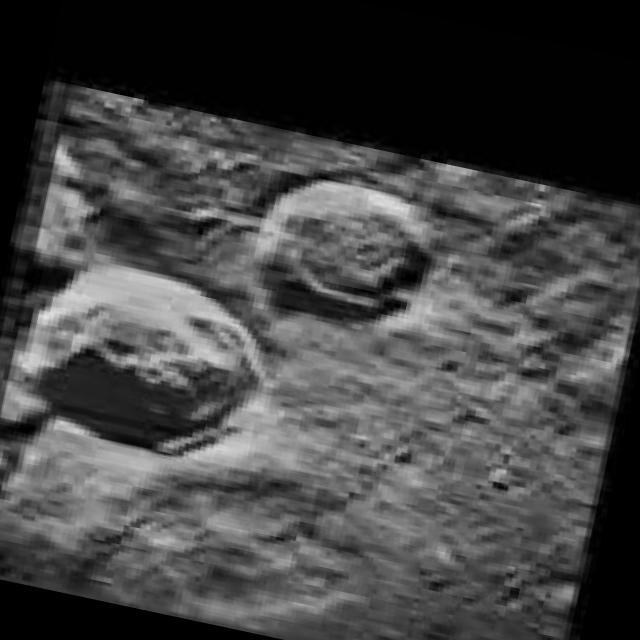crater: (11, 250, 280, 470), (237, 164, 447, 337)
